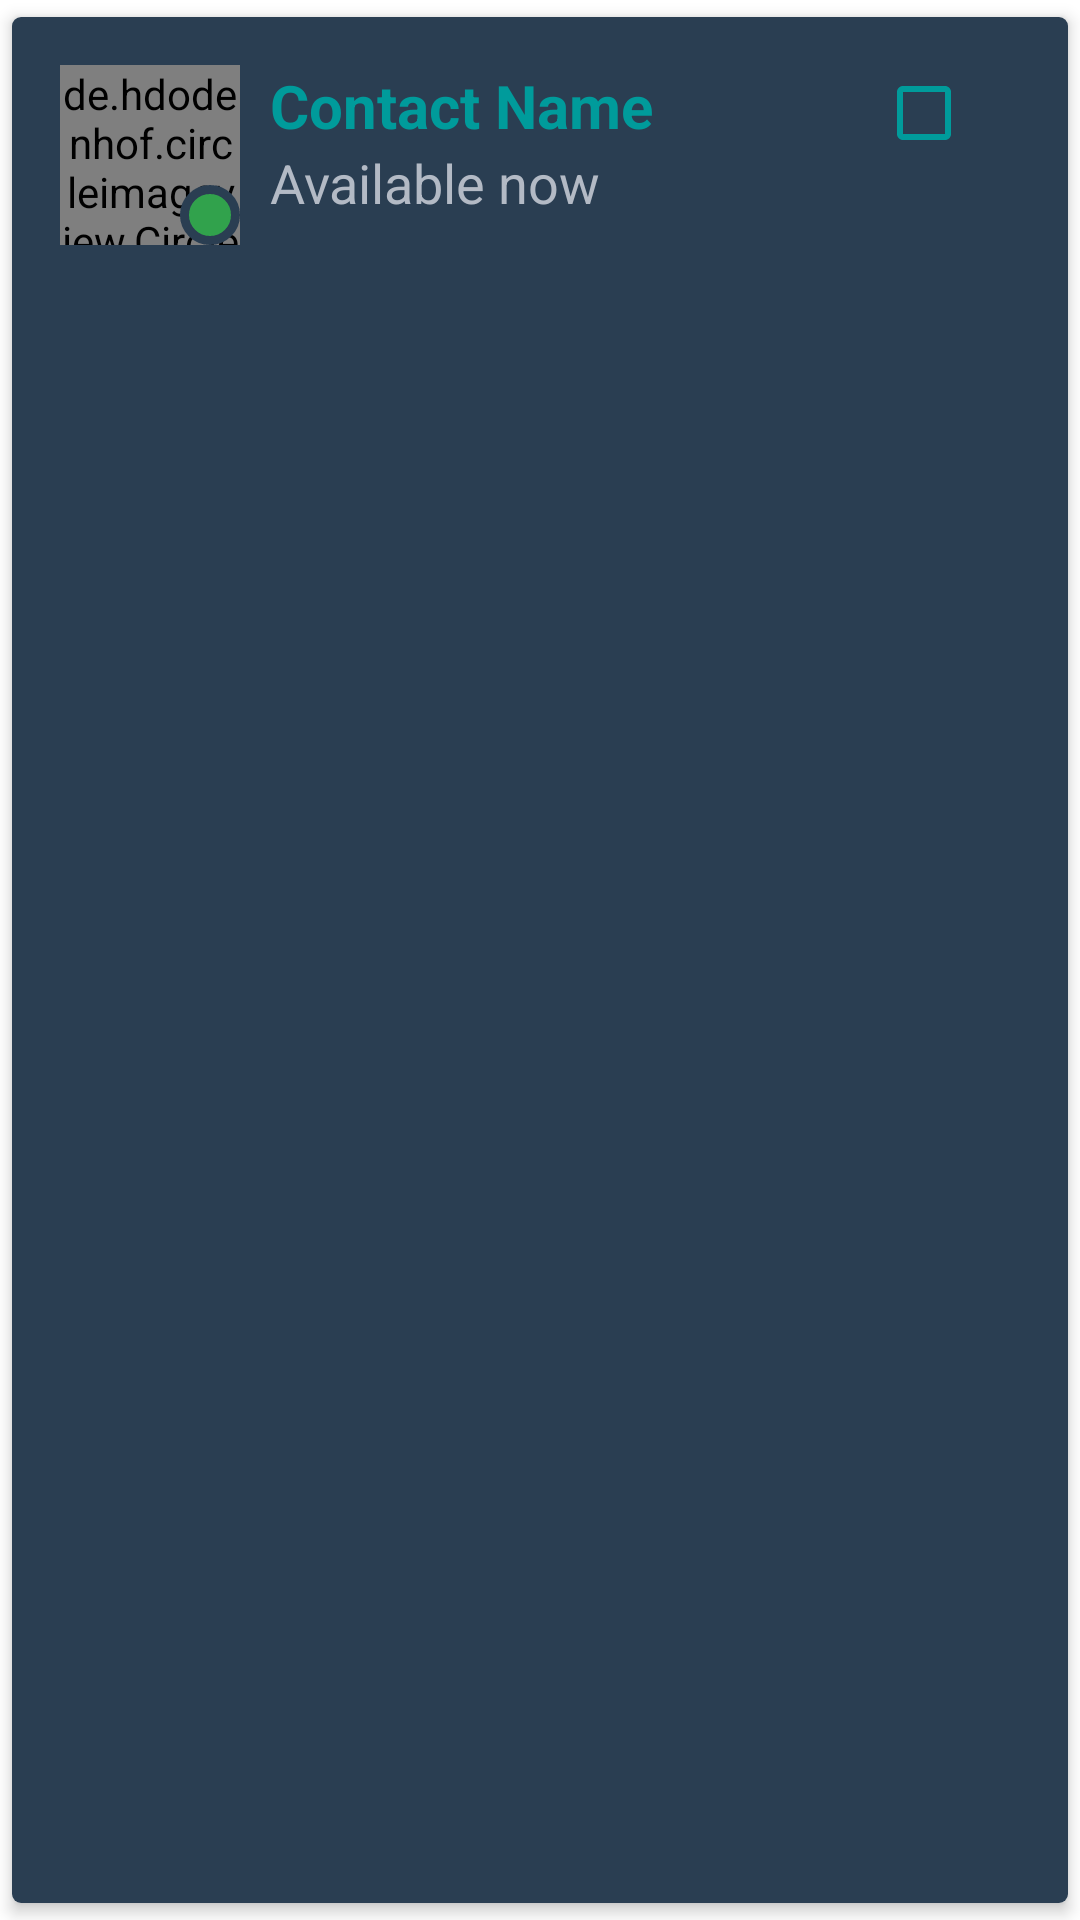

Point at icon controls on the screen. Image size 1080 × 1920, points as (x,y).
contact online: (210,215)
